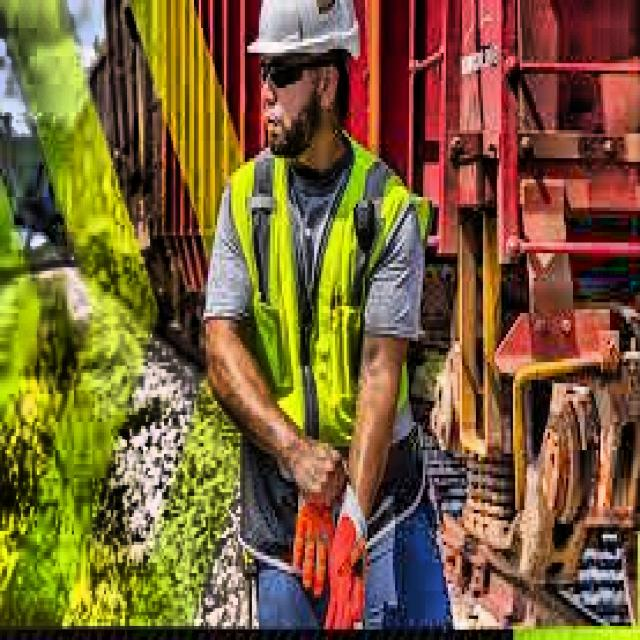safety_helmet: (247, 0, 363, 70)
safety_jacket: (200, 149, 409, 455)
